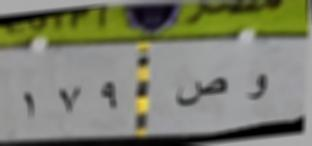1: (20, 85, 41, 125)
7: (53, 80, 83, 118)
9: (98, 78, 120, 112)
saad: (172, 72, 229, 113)
waw: (241, 70, 271, 107)
